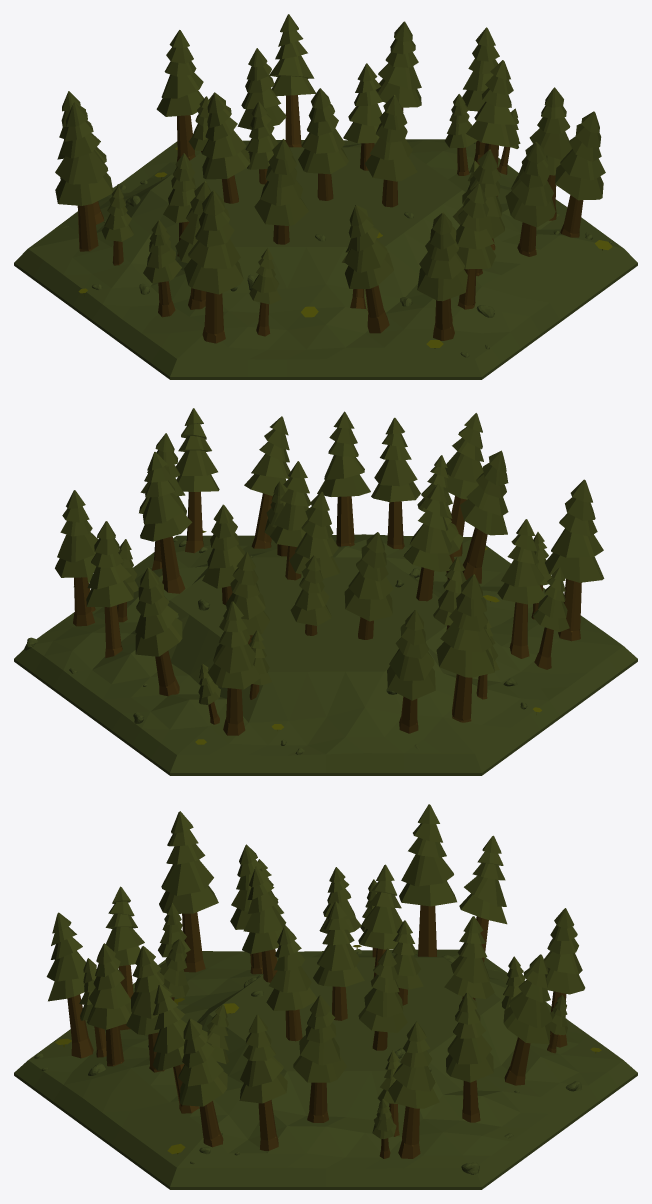
Rendered from taiga.glb.
The picture shows the model from 3 angles, top to bottom: view 1: azimuth 30°, elevation 25°; view 2: azimuth 150°, elevation 25°; view 3: azimuth 270°, elevation 25°; orthographic projection.
Visible parts, largest first — view 1: land, big_details, small_details; view 2: big_details, land; view 3: big_details, land.
Part boxes in pixels (x1,y1,x2,y2): land: (14, 139, 637, 379); big_details: (55, 14, 605, 343); small_details: (78, 147, 612, 348); big_details: (55, 408, 604, 735); land: (14, 534, 637, 775); big_details: (46, 804, 585, 1158); land: (14, 949, 637, 1189).
Size of the model in its own units: 1.73 by 0.6154 by 2.
